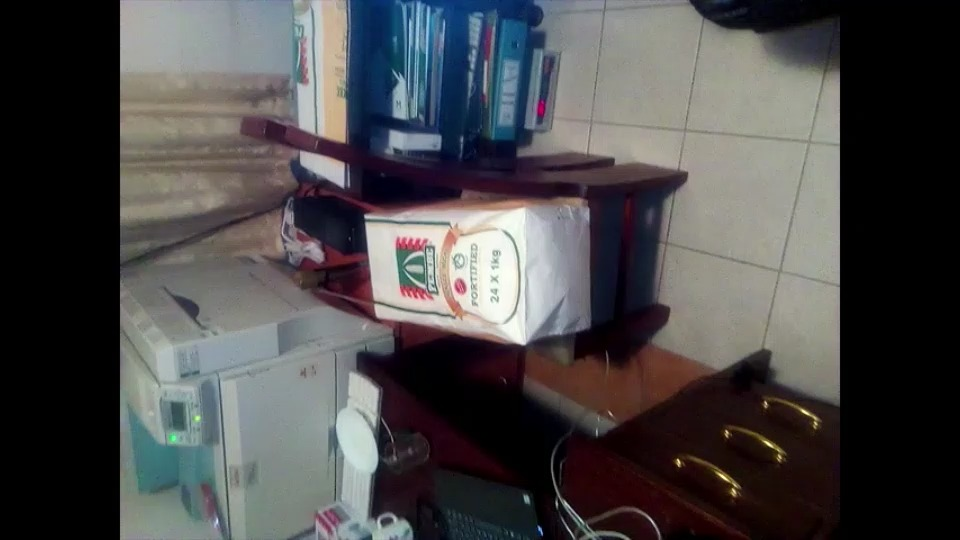maize_flour_green_label: (360, 203, 592, 340)
